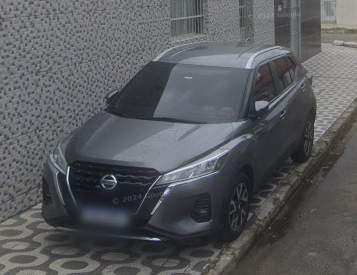car: (38, 41, 319, 239)
